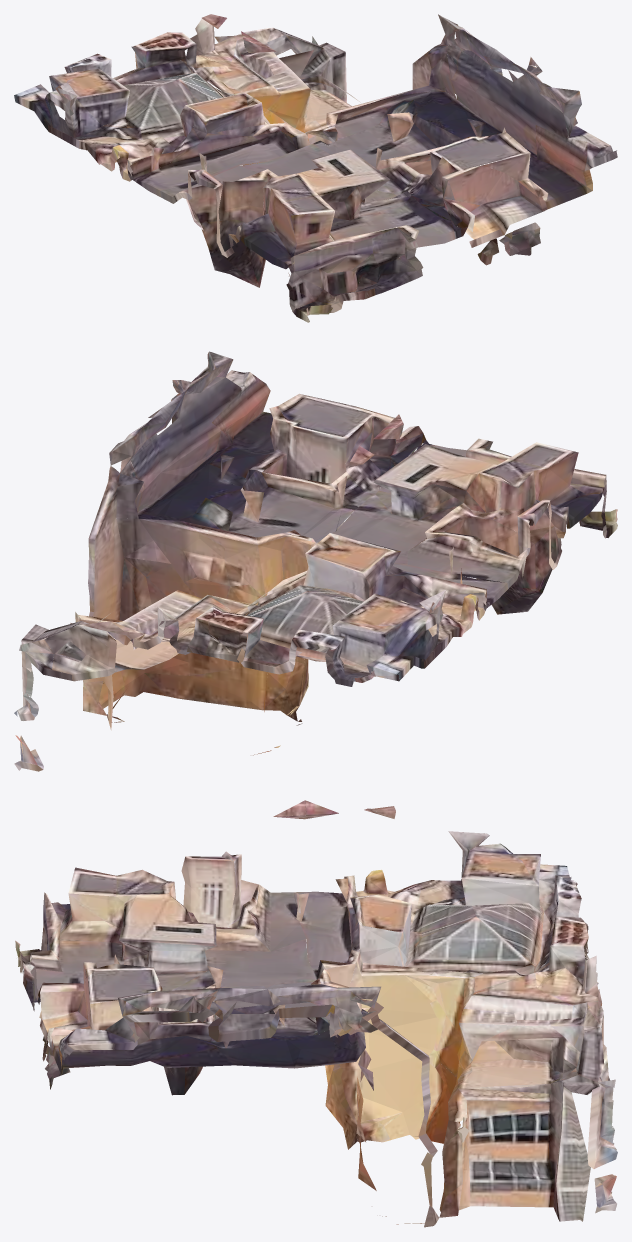
3 renders of one model, top to bottom at view 1: azimuth 30°, elevation 25°; view 2: azimuth 150°, elevation 25°; view 3: azimuth 270°, elevation 25°, orthographic. The views are drawn at different scales.
Visible parts, largest first — view 1: Mesh_0; view 2: Mesh_0; view 3: Mesh_0.
Part boxes in pixels (left/top/right/bottom): Mesh_0: left=14, top=14, right=617, bottom=322; Mesh_0: left=14, top=351, right=617, bottom=771; Mesh_0: left=15, top=800, right=617, bottom=1227.
Size of the model in its own units: 33.73 by 23.15 by 41.55.
Materials: 2 (2 with a texture image).
